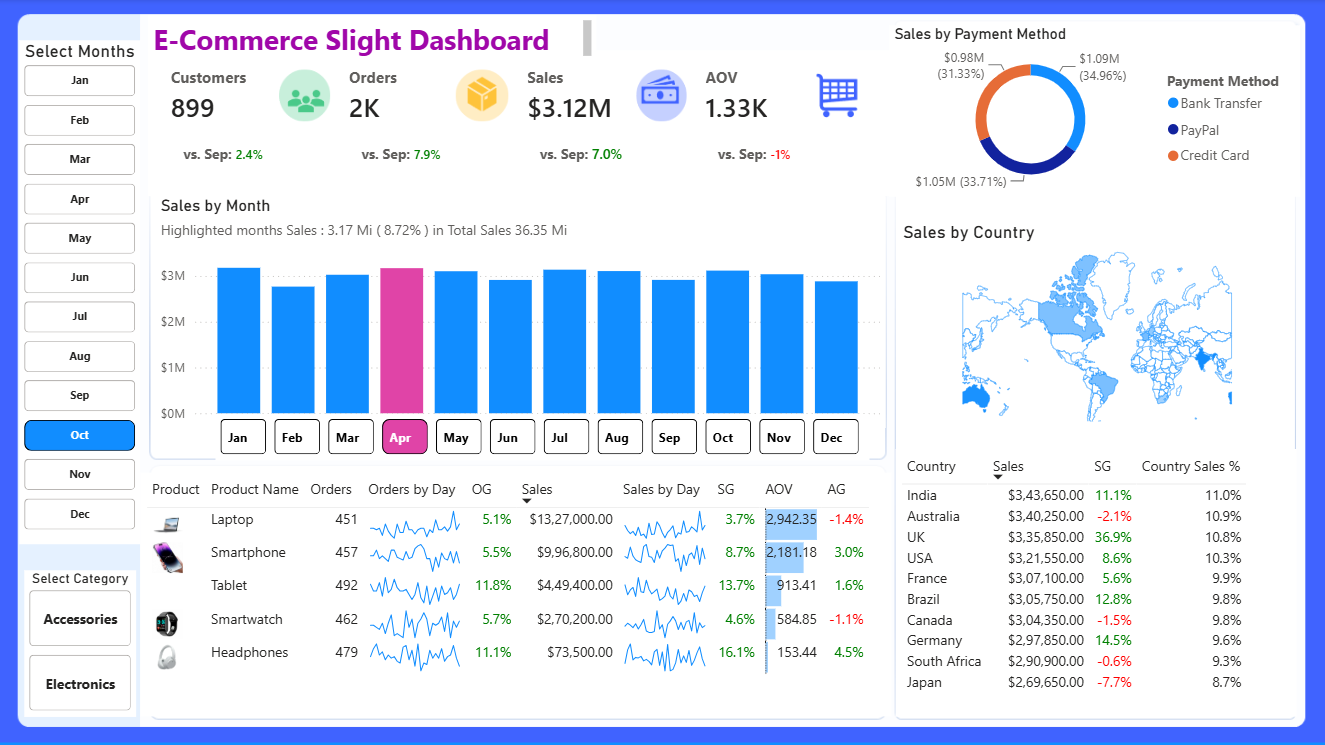

Layout of this report page (visuals, bound fields, positions):
{"tool":"powerbi","page":{"name":"Page 1","canvas":[1280,720],"ordinal":0},"visuals":[{"type":"cardVisual","fields":{"Data":["_Measures.Customers","_Measures.Orders","_Measures.Sales","_Measures.AOV"]},"box":[144.8,49.5,717.8,141.2],"z":0},{"type":"advancedSlicerVisual","title":"Select Months","fields":{"Values":["Calender.Month"]},"box":[20.5,39.8,117,486.2],"z":1000},{"type":"advancedSlicerVisual","title":"Select Category","fields":{"Values":["dimProduct.Category"]},"box":[25.5,551,108.2,141.3],"z":2000},{"type":"donutChart","fields":{"Y":["_Measures.Sales"],"Category":["dimPaymentMethod.Payment Method"]},"box":[860.2,25.3,396.9,165.3],"z":3000},{"type":"clusteredColumnChart","fields":{"Y":["_Measures.Sales"],"Category":["Calender.Month"]},"box":[151.8,190.3,704.6,222.8],"z":4000},{"type":"advancedSlicerVisual","fields":{"Values":["Month Param.Month Param"]},"box":[209.6,401.1,631.1,44.6],"z":5000},{"type":"tableEx","fields":{"Values":["dimProduct.Img","dimProduct.Product Name","_Measures.Orders","SparklineData(_Measures.Orders_[Calender.Day])","_Measures.Orders Growth","_Measures.Sales","SparklineData(_Measures.Sales_[Calender.Day])","_Measures.Sales Growth","_Measures.AOV","_Measures.AOV Growth"]},"box":[137.5,457.2,725.1,235.3],"z":6000},{"type":"shapeMap","fields":{"Value":["_Measures.Sales"],"Category":["dimCountry.Country"]},"box":[868.6,214.7,384.9,197.9],"z":7000},{"type":"tableEx","fields":{"Values":["dimCountry.Country","_Measures.Sales","_Measures.Sales Growth","_Measures.Country Sales %"]},"box":[866.2,434.3,387.3,258.2],"z":8000},{"type":"textbox","box":[144.8,15.7,433.1,44.6],"z":9000}]}

Visuals, with their boxes in screenshot pixels (x1, y1, x2, y2), scaled from the page's 1280x720 canvas onto the 1325x745 screenshot:
cardVisual - _Measures.Customers x _Measures.Orders: (150, 51, 893, 197)
"Select Months" advancedSlicerVisual: (21, 41, 142, 544)
"Select Category" advancedSlicerVisual: (26, 570, 138, 716)
donutChart - _Measures.Sales x dimPaymentMethod.Payment Method: (890, 26, 1301, 197)
clusteredColumnChart - _Measures.Sales x Calender.Month: (157, 197, 887, 427)
advancedSlicerVisual - Month Param.Month Param: (217, 415, 870, 461)
tableEx - dimProduct.Img x dimProduct.Product Name: (142, 473, 893, 717)
shapeMap - _Measures.Sales x dimCountry.Country: (899, 222, 1298, 427)
tableEx - dimCountry.Country x _Measures.Sales: (897, 449, 1298, 717)
textbox: (150, 16, 598, 62)
